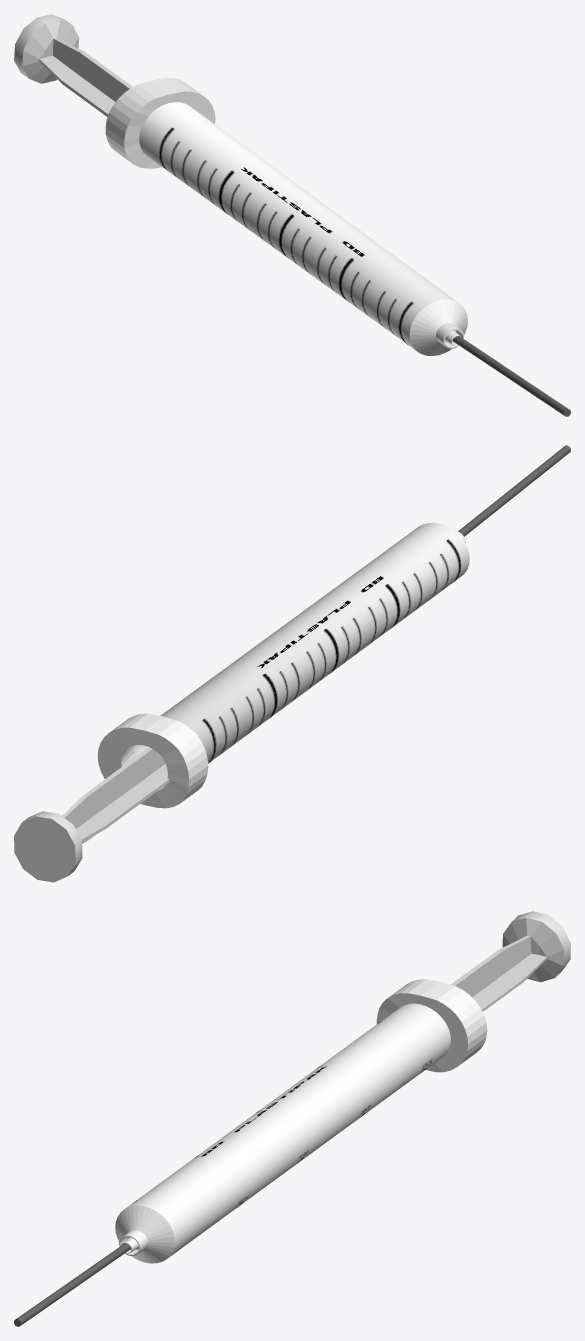
Rendered from syringeWITH NEEDLE.fbx.
3 views of the same model, one above another, from view 1: azimuth 30°, elevation 25°; view 2: azimuth 150°, elevation 25°; view 3: azimuth 330°, elevation 25° (orthographic). The views are drawn at different scales.
Parts seen in each view (by area): view 1: syringe .002, Cylinder.005, needle; view 2: syringe .002, Cylinder.005, needle; view 3: syringe .002, Cylinder.005, needle.
Part boxes in pixels (x1,y1,x2,y2): syringe .002: (105,77,467,355); Cylinder.005: (14,14,132,116); needle: (452,336,570,416); syringe .002: (97,522,469,808); Cylinder.005: (14,747,169,882); needle: (458,445,570,536); syringe .002: (115,979,487,1263); Cylinder.005: (451,911,570,1011); needle: (14,1243,131,1326).
Bounding box in the file's own units: 2.66 × 2.03 × 26.46.
